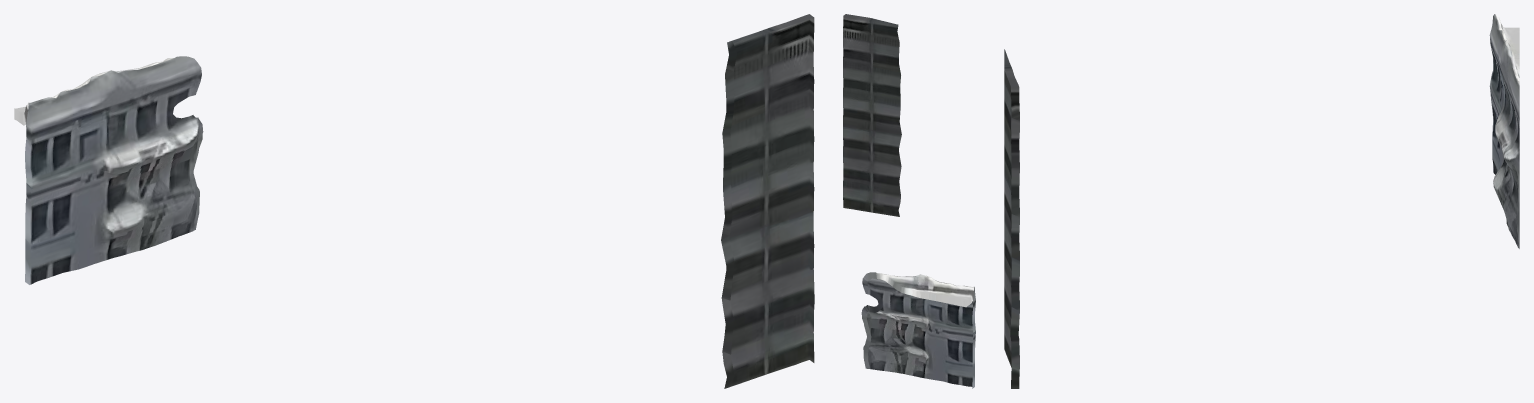
Rendered from z20-167782-405226-h1-yup-uvflip-v3-world.glb.
The picture shows the model from 3 angles, left to right: view 1: azimuth 30°, elevation 25°; view 2: azimuth 150°, elevation 25°; view 3: azimuth 270°, elevation 25°; orthographic projection. The views are drawn at different scales.
Bounding box in the file's own units: 30.16 × 19.6 × 30.32.
Materials: 1 (1 with a texture image).
